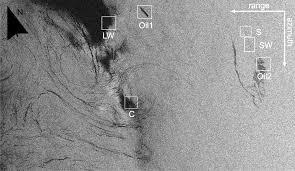anomaly: (27, 2, 180, 134)
